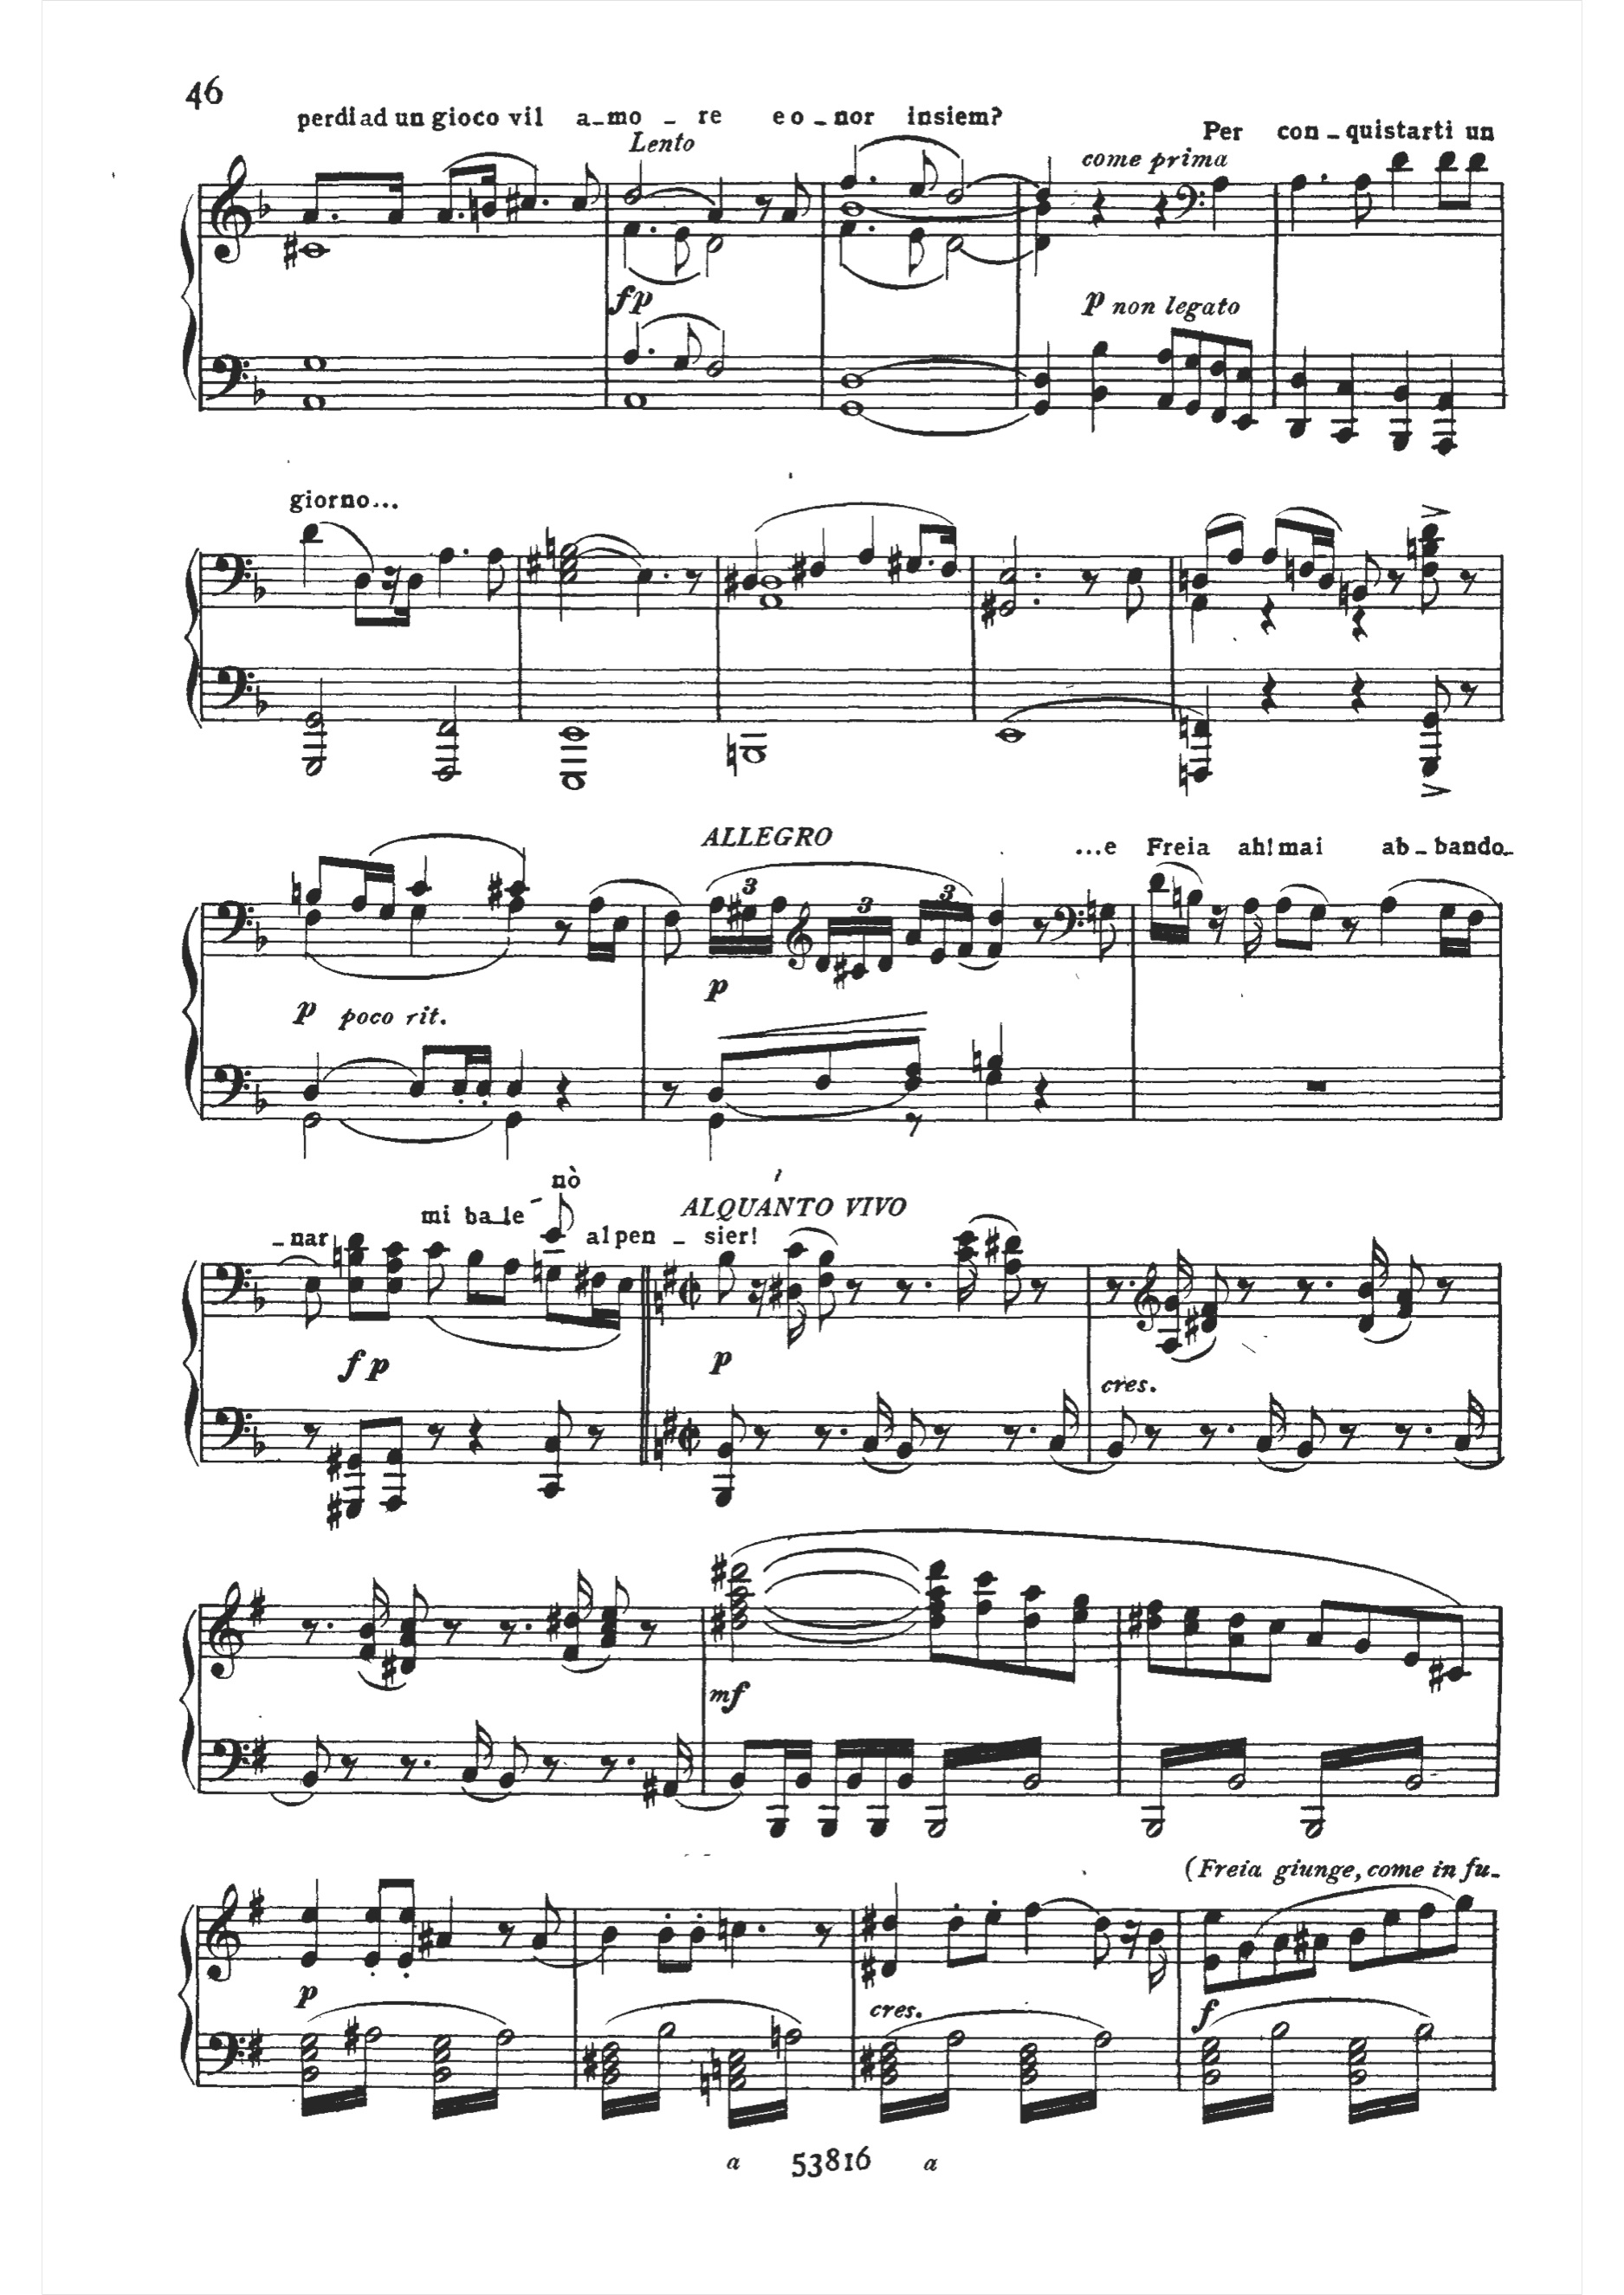bass_clef: (202, 1724, 253, 1798), (202, 346, 250, 409), (200, 2026, 246, 2091), (206, 1056, 251, 1116), (213, 657, 255, 720), (211, 1258, 255, 1313), (216, 894, 255, 956), (213, 1401, 253, 1457), (209, 552, 253, 603)
flat: (244, 1422, 271, 1459), (251, 186, 276, 225), (250, 916, 271, 959), (251, 1281, 272, 1323), (248, 569, 269, 606), (251, 684, 269, 722), (250, 369, 267, 406), (251, 1081, 269, 1118)
sharp: (244, 2026, 271, 2074), (243, 1886, 271, 1928), (248, 1585, 271, 1629), (248, 1734, 271, 1777)
treble_clef: (197, 1576, 250, 1687), (197, 1875, 244, 1989), (209, 151, 253, 267)
